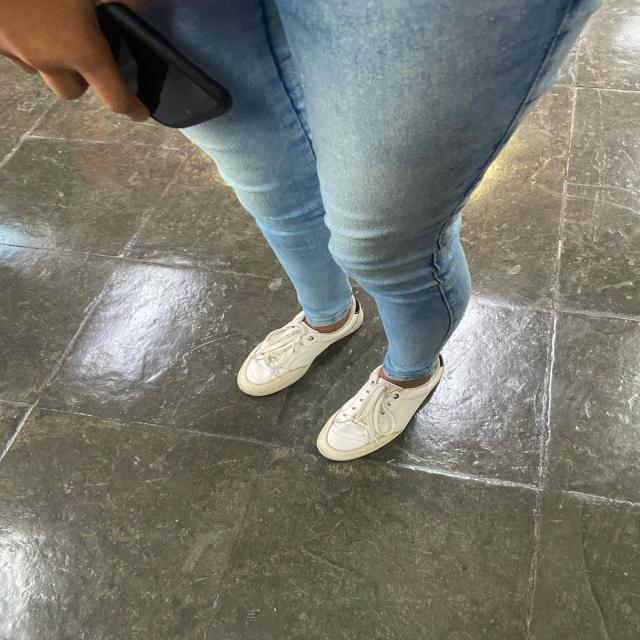SEM BOTA: (301, 347, 449, 469), (238, 288, 371, 399)
SEM LUVA: (0, 0, 162, 119)
